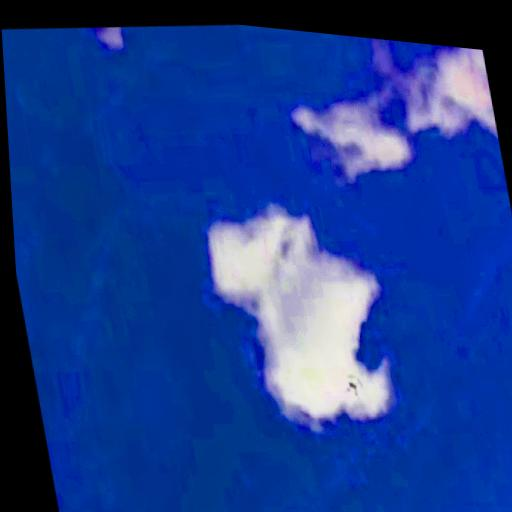drones: (341, 367, 368, 409)
